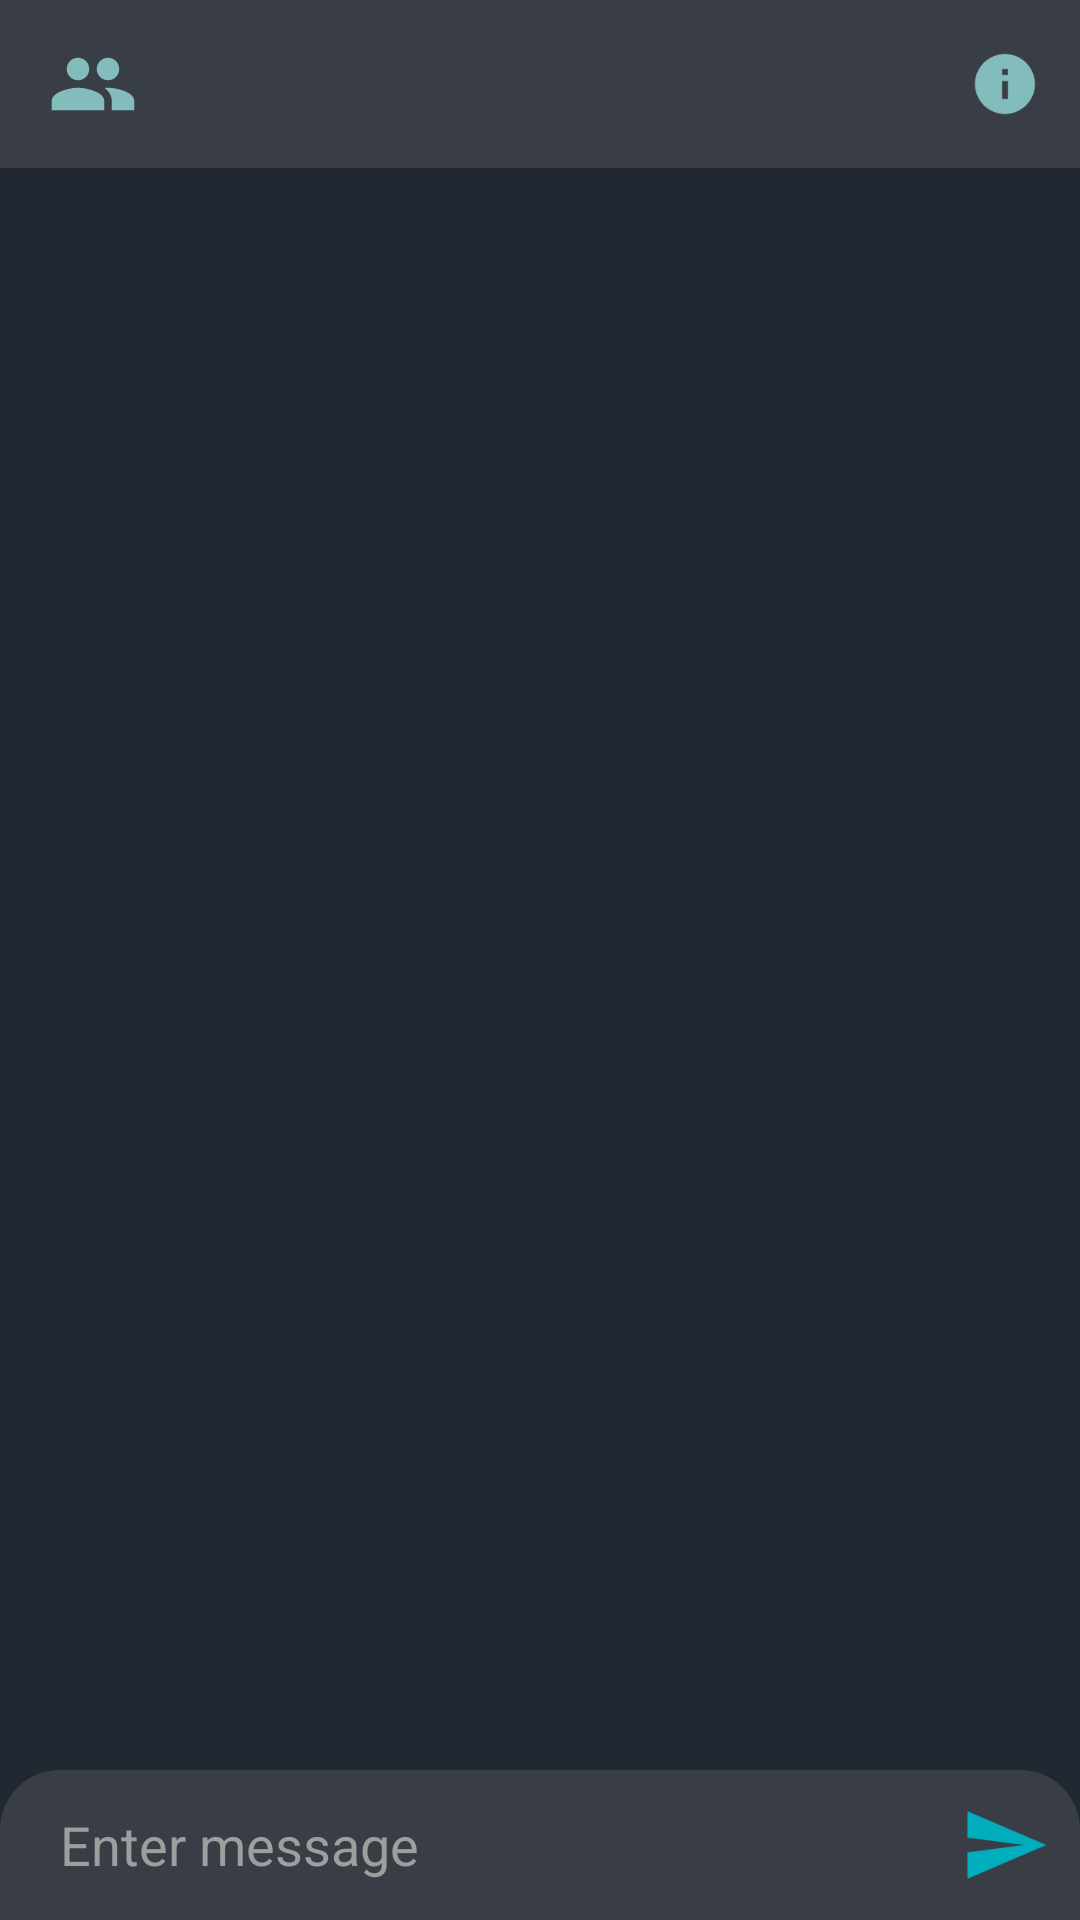

Point at icon controls on the screen. Image size 1080px×1920px, points as point (x, y).
info: point (1004, 84)
send: point (1006, 1845)
two people: point (93, 84)
